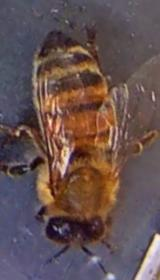varroa_mite: (40, 108, 60, 136)
